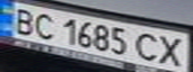1: (54, 16, 78, 45)
5: (109, 25, 133, 57)
6: (75, 19, 96, 49)
8: (90, 23, 112, 53)
B: (6, 6, 39, 35)
C: (133, 29, 163, 63), (27, 10, 60, 39)
X: (154, 33, 190, 69)
